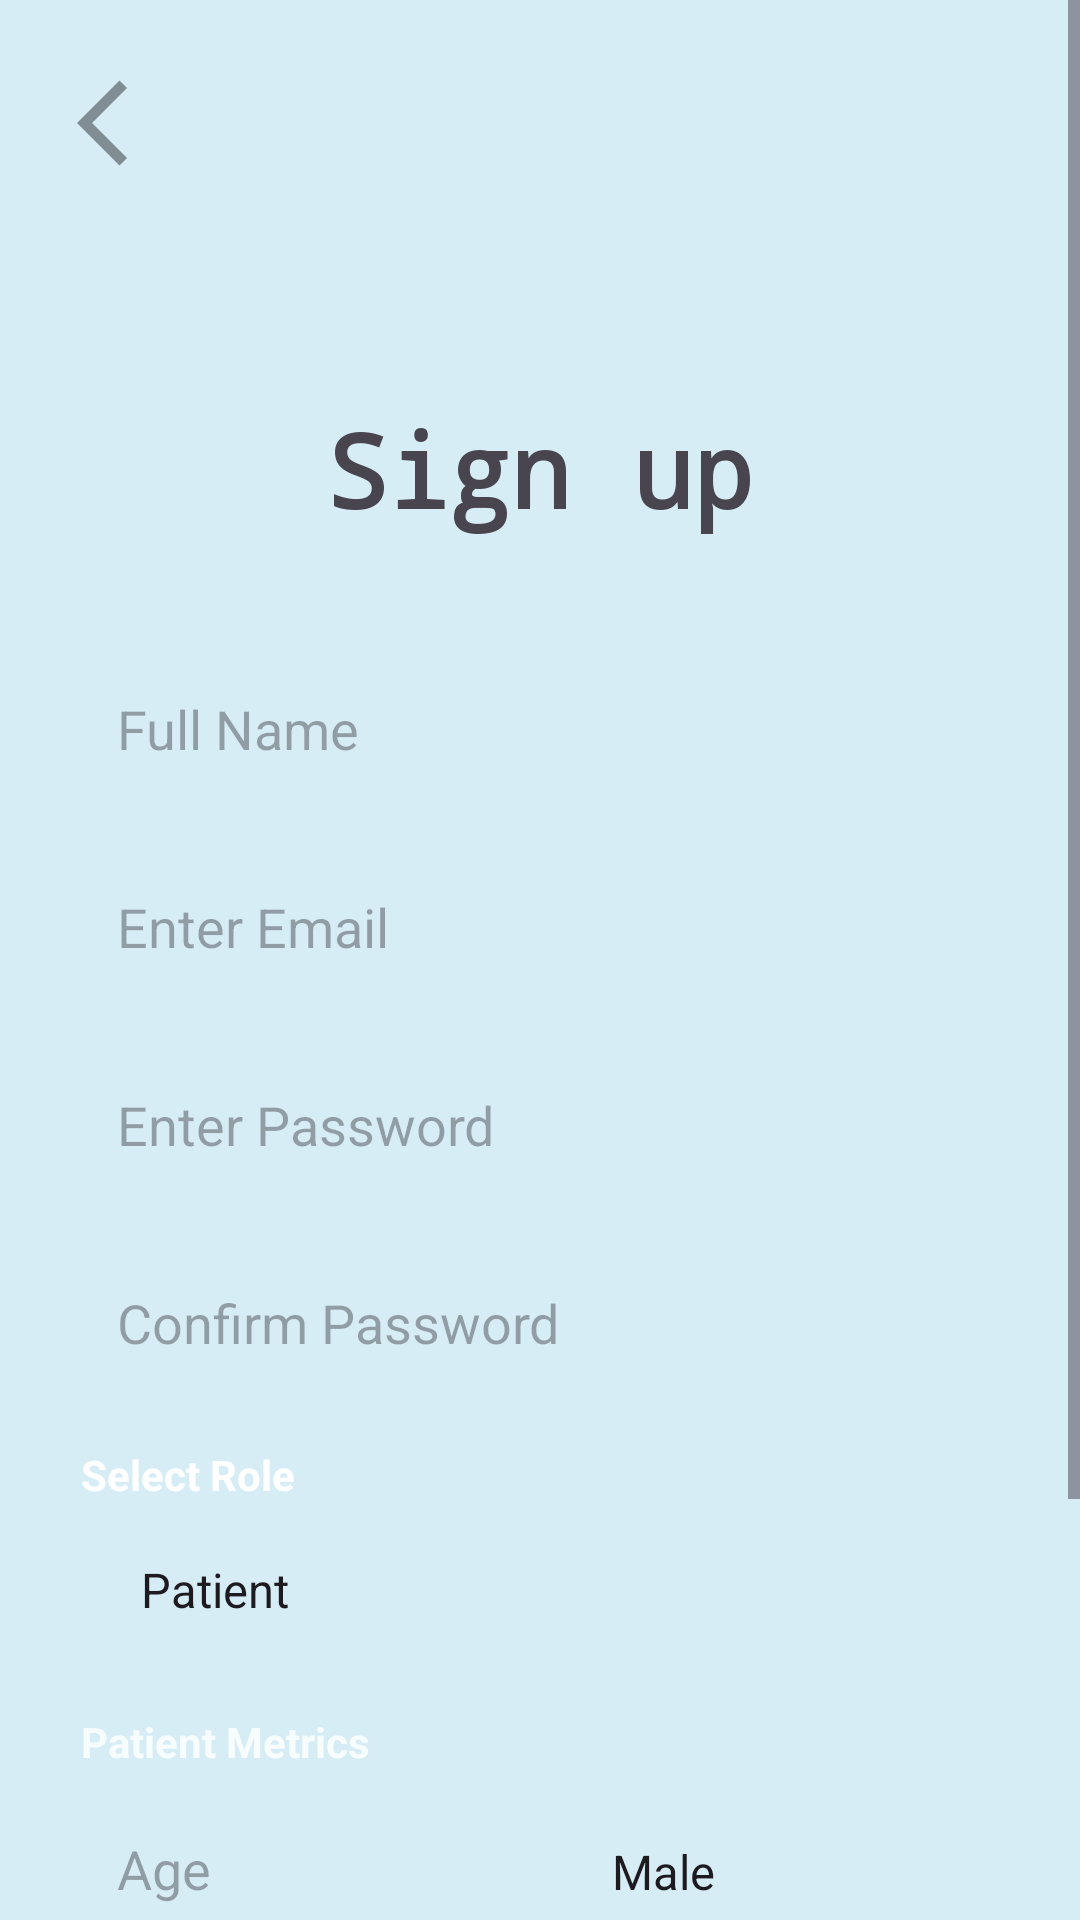

Named icons in this screenshot (1080 × 1920) and their centers, (x,y):
arrow left: (102,123)
